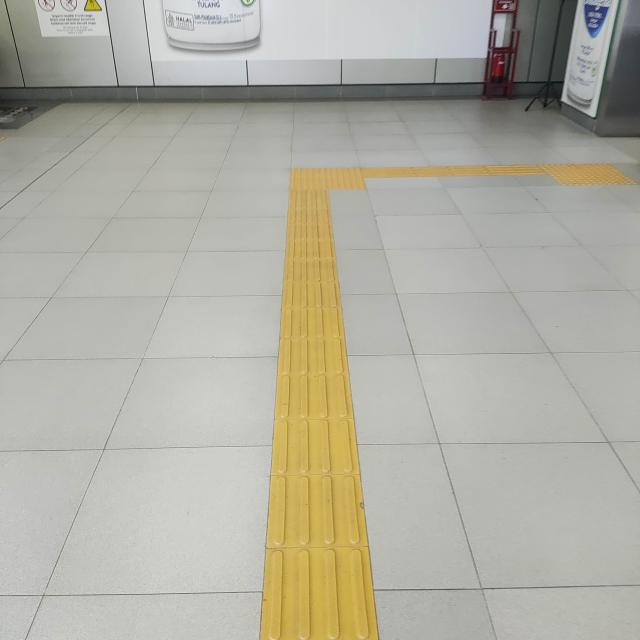kanan: (260, 155, 415, 204)
